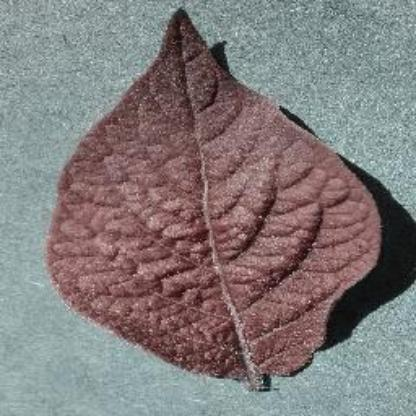Healthy-plant: (43, 3, 388, 395)
